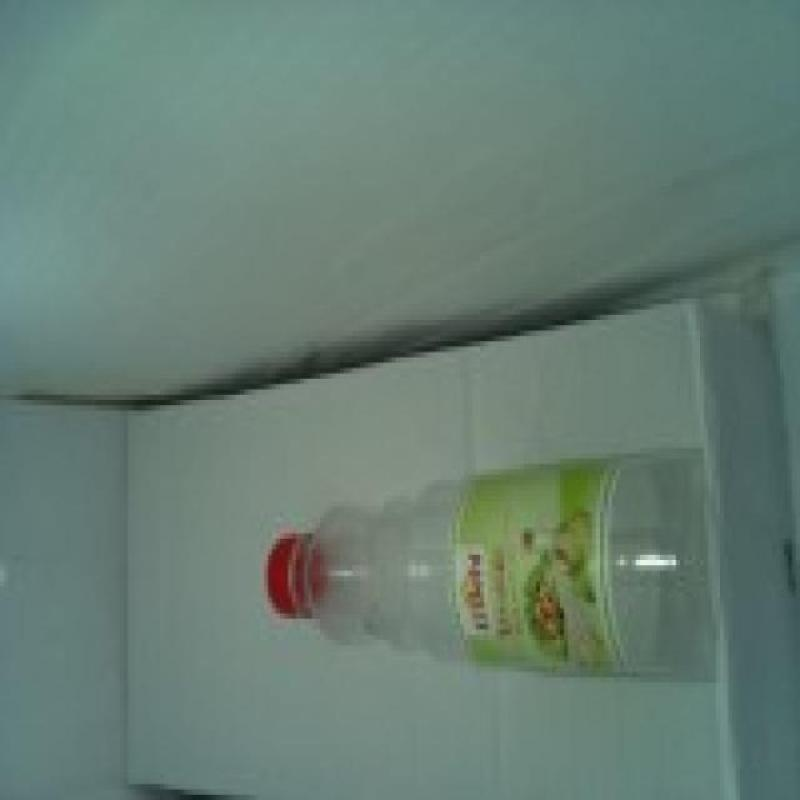botella: (266, 448, 718, 682)
